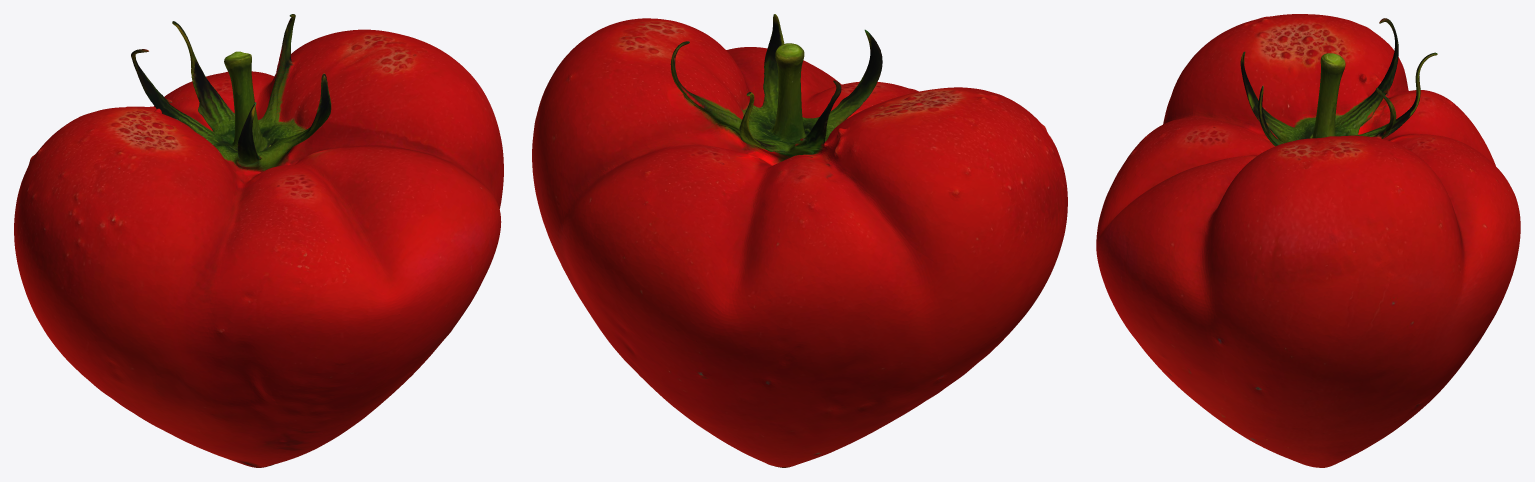
File: tomate.glb
3 renders of one model, left to right at view 1: azimuth 30°, elevation 25°; view 2: azimuth 150°, elevation 25°; view 3: azimuth 270°, elevation 25°, orthographic. The views are drawn at different scales.
Parts seen in each view (by area): view 1: tripo_node_c9c9fffc-883d-492b-bfaf-9fb250409e43; view 2: tripo_node_c9c9fffc-883d-492b-bfaf-9fb250409e43; view 3: tripo_node_c9c9fffc-883d-492b-bfaf-9fb250409e43.
Boxes of the visible parts, <box> form: tripo_node_c9c9fffc-883d-492b-bfaf-9fb250409e43: <box>14,14,503,467</box>; tripo_node_c9c9fffc-883d-492b-bfaf-9fb250409e43: <box>532,14,1067,467</box>; tripo_node_c9c9fffc-883d-492b-bfaf-9fb250409e43: <box>1096,14,1520,467</box>.
Bounding box in the file's own units: 6.44 × 5.52 × 5.23.
1 material, 1 textured.
